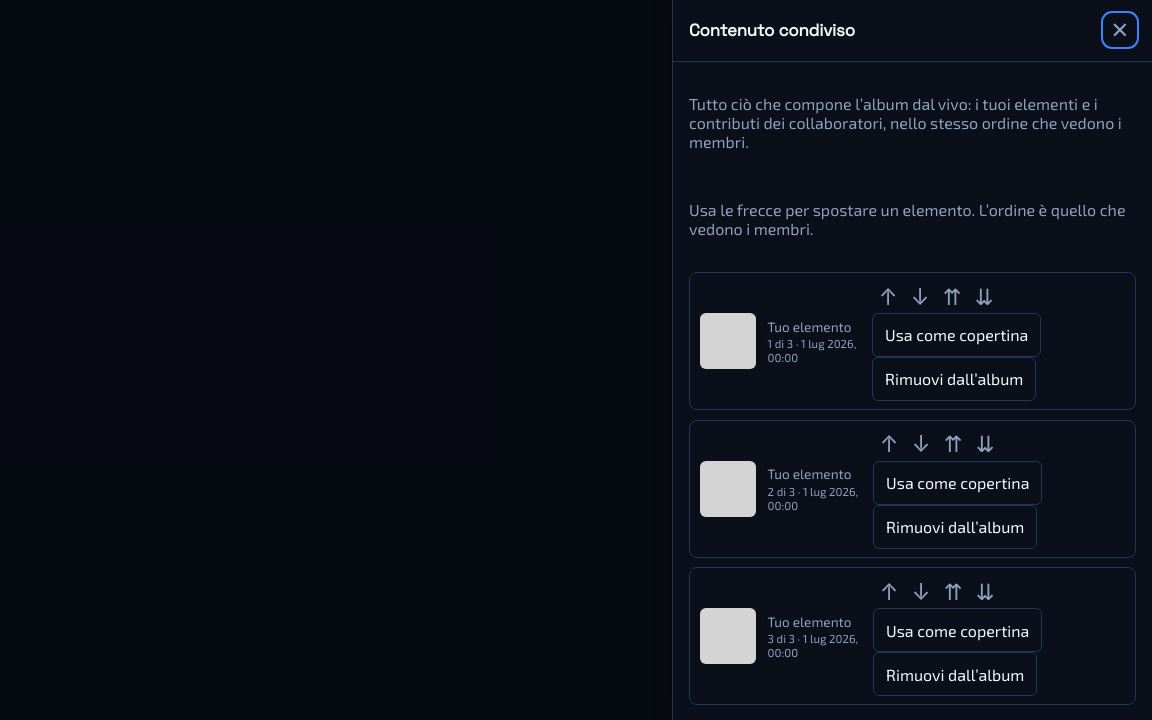
AlbumSharedContentPanel — cover › sets and clears the cover with the expected version
This screenshot has width=1152, height=720.
Click the button with test id "album-content-set-cover" in the row of "2 di 3": (958, 483) [873, 461, 1042, 505]
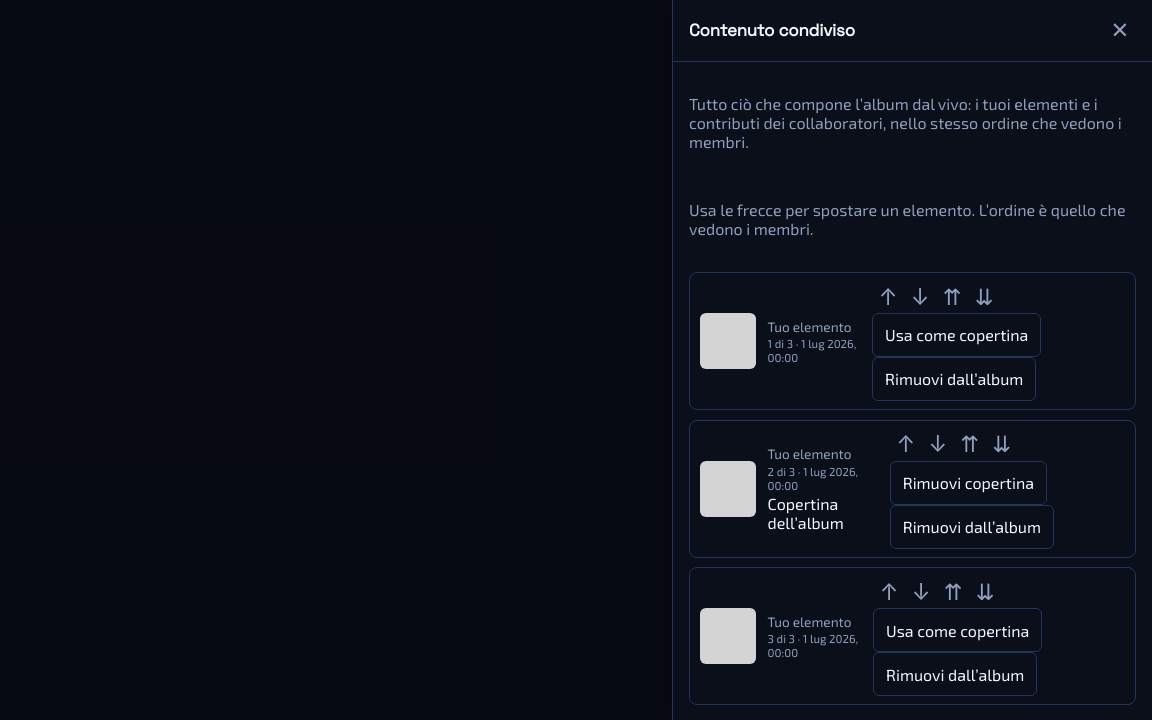
Expected: the text "Copertina dell’album" is shown, [768, 494, 844, 532]
Click the button with test id "album-content-clear-cover": (968, 483) [890, 461, 1047, 505]
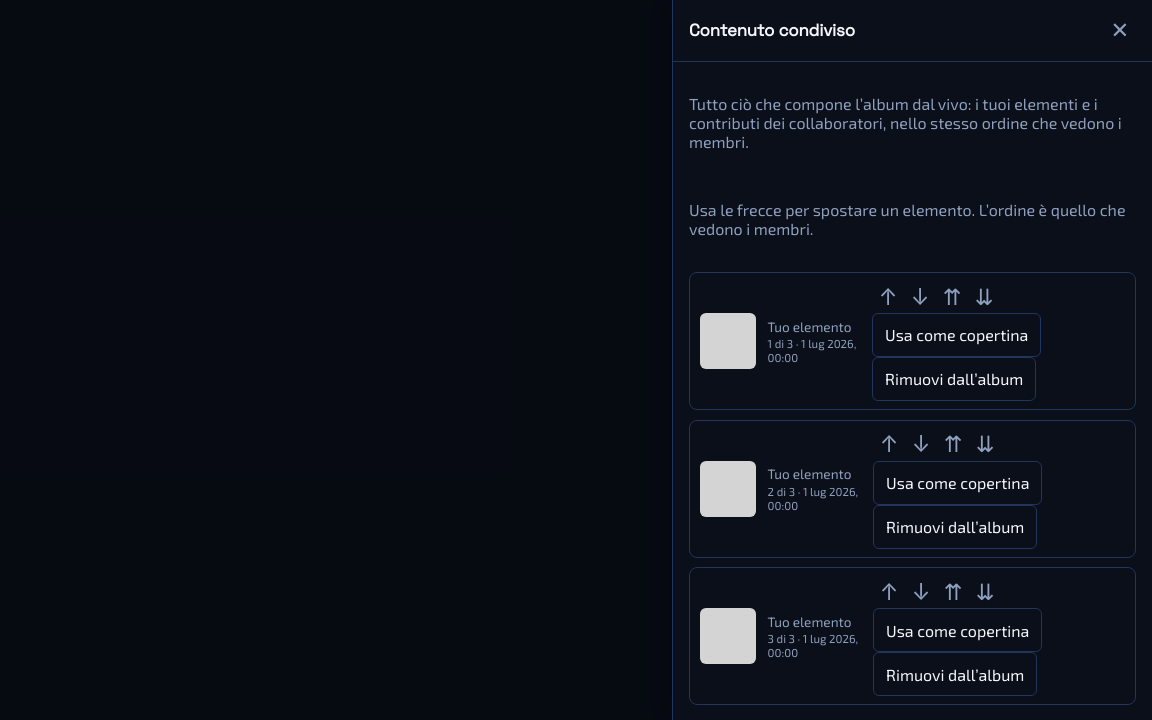
Expected: the text with test id "album-content-is-cover" is gone
